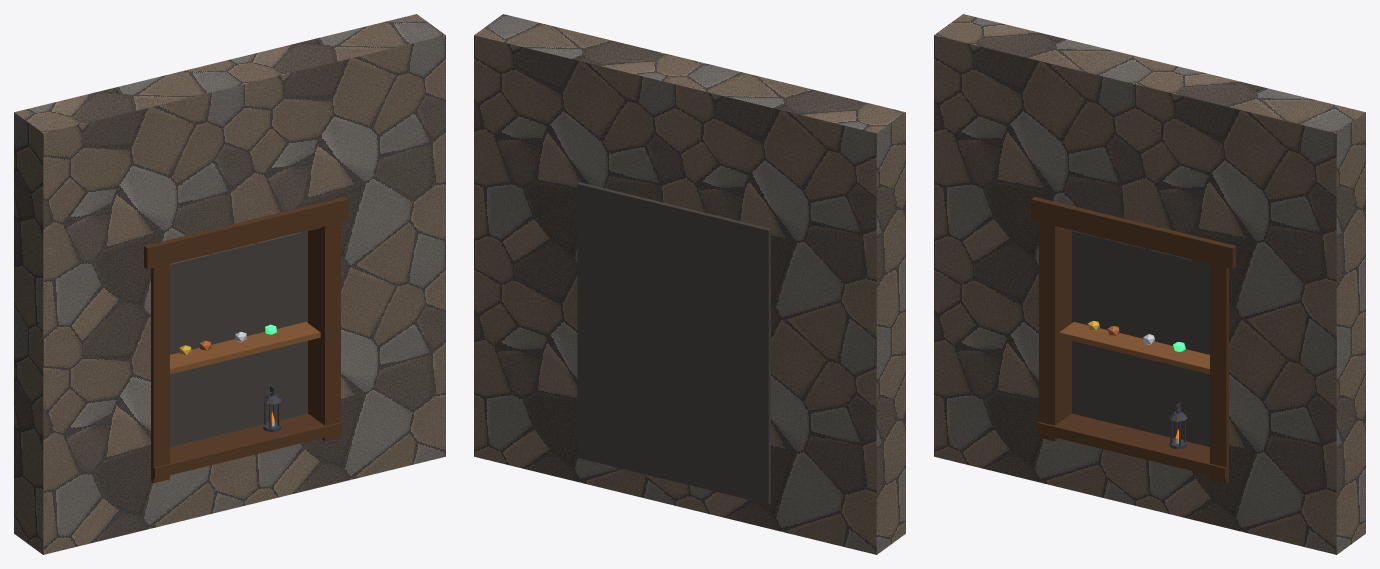
The model's file is mine_wall_alcove.glb.
3 renders of one model, left to right at view 1: azimuth 30°, elevation 25°; view 2: azimuth 150°, elevation 25°; view 3: azimuth 330°, elevation 25°, orthographic.
Visible parts, largest first — view 1: mine_wall_alcove; view 2: mine_wall_alcove; view 3: mine_wall_alcove.
Boxes of the visible parts, box(x1,y1,x2,y2) form: mine_wall_alcove: box(14, 14, 445, 554); mine_wall_alcove: box(474, 14, 905, 554); mine_wall_alcove: box(934, 14, 1365, 554).
Size of the model in its own units: 4 by 4 by 0.61.
12 materials, 1 textured.
